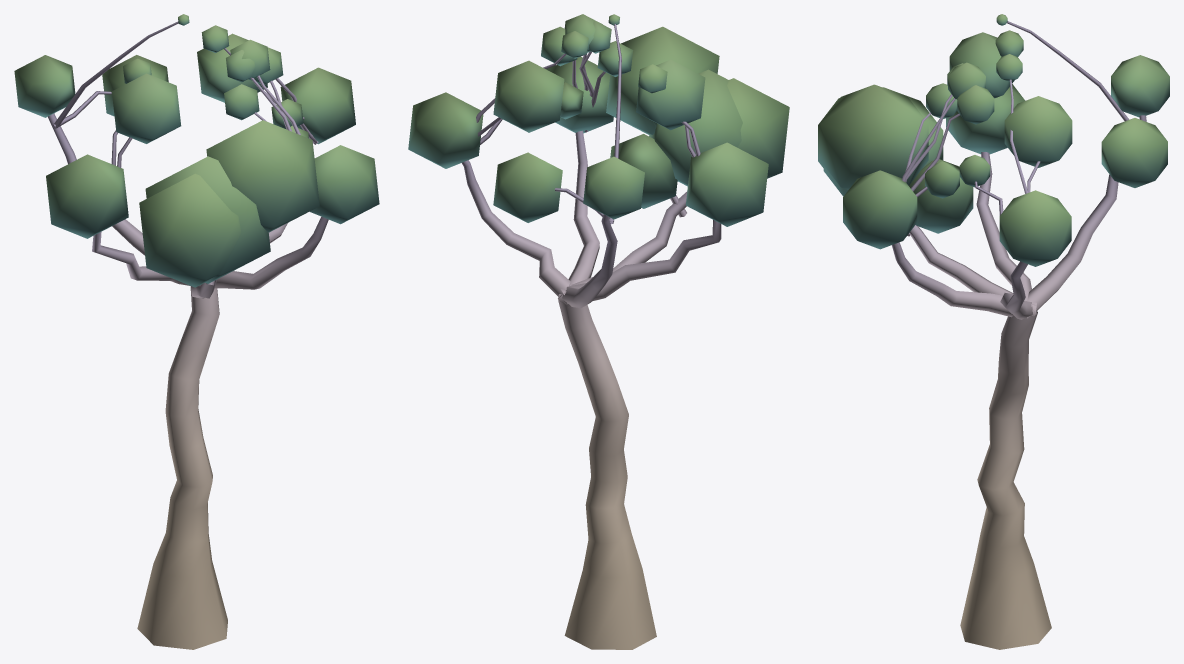
The model's file is seed_tree_g.glb.
The picture shows the model from 3 angles, left to right: view 1: azimuth 30°, elevation 25°; view 2: azimuth 150°, elevation 25°; view 3: azimuth 270°, elevation 25°; orthographic projection.
Parts seen in each view (by area): view 1: seed_tree_g_LOD0; view 2: seed_tree_g_LOD0; view 3: seed_tree_g_LOD0.
Part boxes in pixels (left/top/right/bottom): seed_tree_g_LOD0: left=14, top=14, right=379, bottom=649; seed_tree_g_LOD0: left=408, top=14, right=789, bottom=649; seed_tree_g_LOD0: left=818, top=14, right=1169, bottom=649.
Size of what is drawn, in the model's own units: 7.72 by 14.02 by 7.25.
